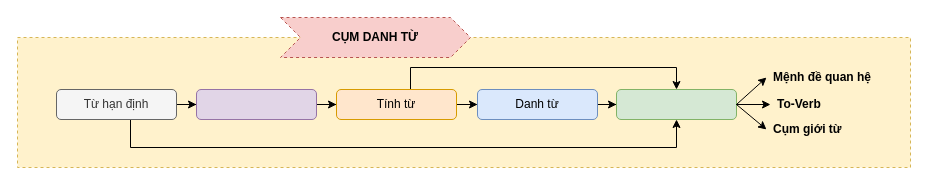
Some shapes in this 928 by 185 pixel diagram are drawn without their labels. The shapes that lost their labels are listed below. From the top down, each one's centre as x and y in pixels, then its label:
At (256,104): "Trạng từ".
At (676,104): "DANH TỪ CHÍNH".
